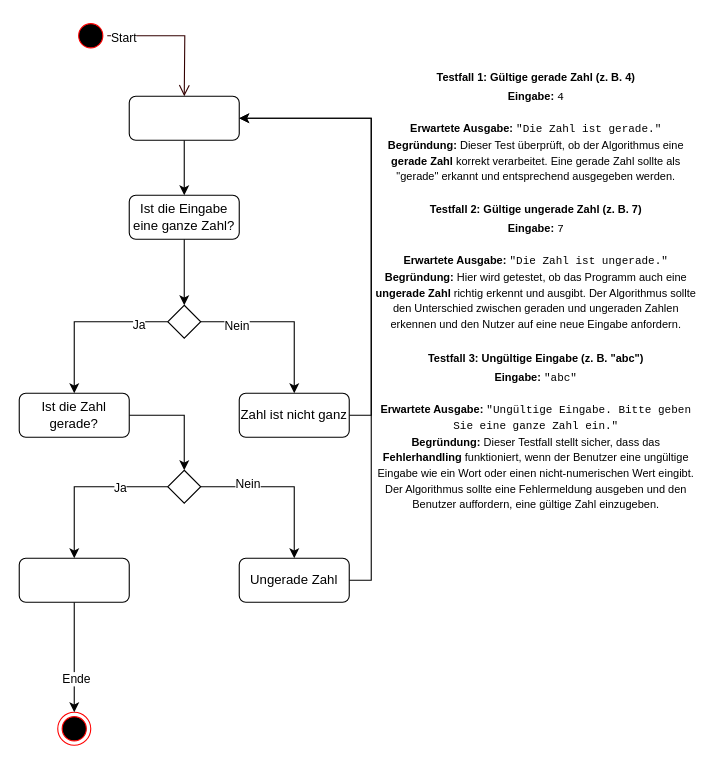
The diagram is 721 pixels wide and 765 high, and some of its shapes have lost their labels. The shapes that lost their labels are listed below. From the top down, each one's centre as x and y in pixels, then its label:
At (183,117): "Eingabe einer Zahl".
At (73,579): "Die Zahl ist gerade".
